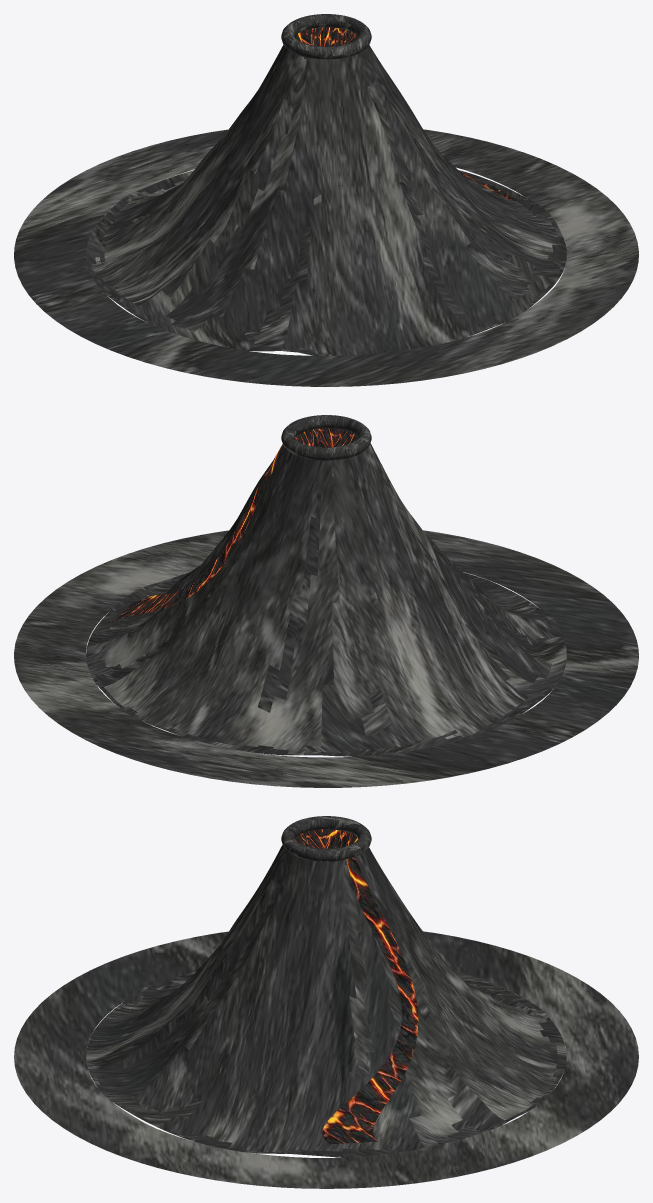
File: volcano_v001.glb
The picture shows the model from 3 angles, top to bottom: view 1: azimuth 30°, elevation 25°; view 2: azimuth 150°, elevation 25°; view 3: azimuth 270°, elevation 25°; orthographic projection.
Parts seen in each view (by area): view 1: Volcano_Cone, Volcano_BaseTerrain, Volcano_CraterRim, Volcano_CraterInner; view 2: Volcano_Cone, Volcano_BaseTerrain, Volcano_CraterRim, Volcano_LavaFlow_01, Volcano_CraterInner; view 3: Volcano_Cone, Volcano_BaseTerrain, Volcano_LavaFlow_01, Volcano_CraterRim, Volcano_CraterInner.
Boxes of the visible parts, bbox=[...] form: Volcano_Cone: bbox=[86, 45, 566, 355]; Volcano_BaseTerrain: bbox=[14, 129, 638, 386]; Volcano_CraterRim: bbox=[281, 14, 371, 59]; Volcano_CraterInner: bbox=[295, 27, 357, 46]; Volcano_Cone: bbox=[86, 443, 566, 756]; Volcano_BaseTerrain: bbox=[14, 530, 638, 787]; Volcano_CraterRim: bbox=[281, 415, 371, 460]; Volcano_LavaFlow_01: bbox=[113, 444, 284, 622]; Volcano_CraterInner: bbox=[295, 428, 357, 447]; Volcano_Cone: bbox=[86, 845, 566, 1157]; Volcano_BaseTerrain: bbox=[14, 931, 638, 1188]; Volcano_LavaFlow_01: bbox=[322, 857, 418, 1144]; Volcano_CraterRim: bbox=[281, 816, 371, 861]; Volcano_CraterInner: bbox=[295, 829, 357, 848].
Size of the model in its own units: 2.6 by 1.03 by 2.6.
Materials: 4 (4 with a texture image).
